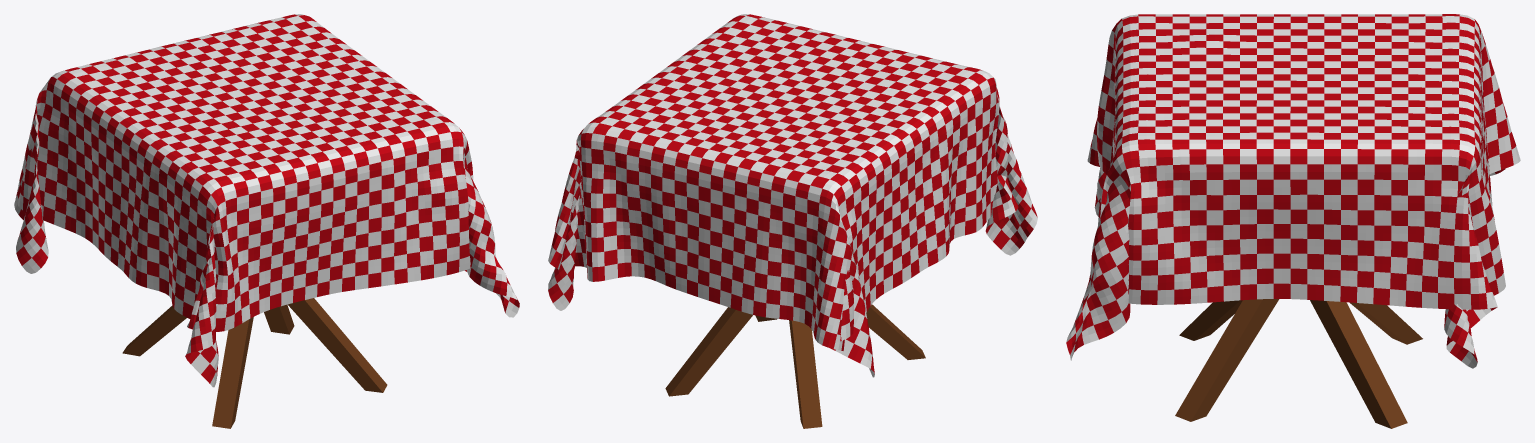
The model's file is table.glb.
The picture shows the model from 3 angles, left to right: view 1: azimuth 30°, elevation 25°; view 2: azimuth 150°, elevation 25°; view 3: azimuth 270°, elevation 25°; orthographic projection. The views are drawn at different scales.
Parts seen in each view (by area): view 1: Plane_3, Cube.003_2; view 2: Plane_3, Cube.003_2; view 3: Plane_3, Cube.003_2.
Part boxes in pixels (x1,y1,x2,y2): Plane_3: (14, 14, 519, 387); Cube.003_2: (122, 298, 387, 428); Plane_3: (548, 14, 1037, 377); Cube.003_2: (665, 304, 925, 428); Plane_3: (1066, 14, 1520, 368); Cube.003_2: (1175, 299, 1422, 428).
Bounding box in the file's own units: 1.02 × 0.8475 × 1.13.
